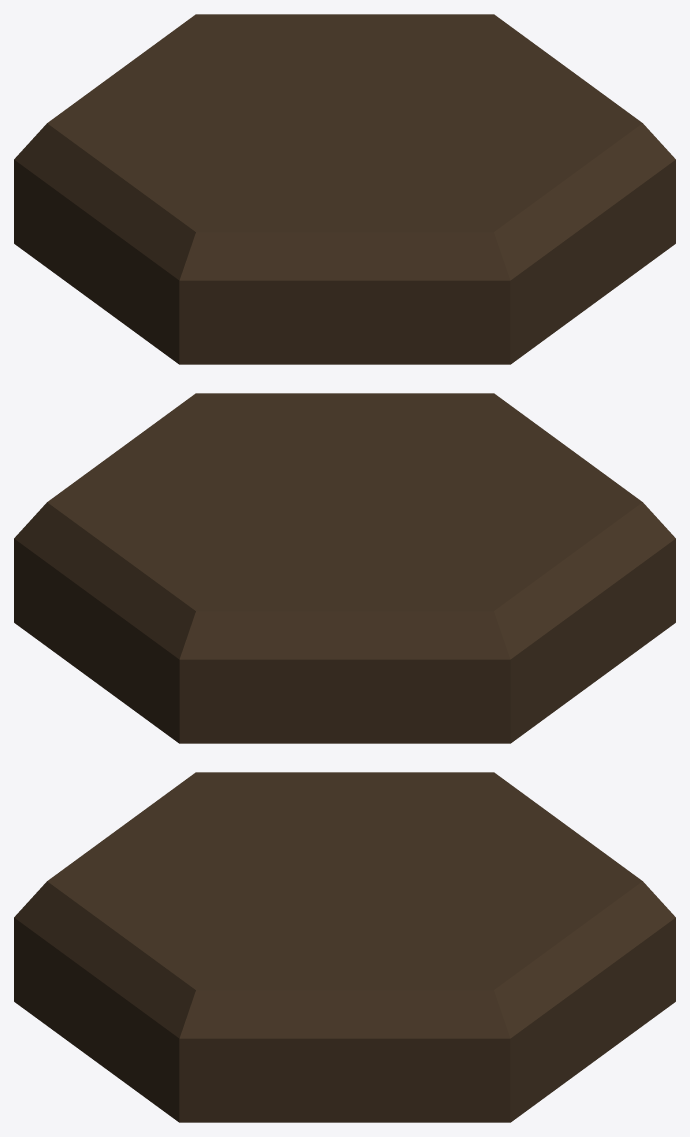
Rendered from Rune Blank.fbx.
The picture shows the model from 3 angles, top to bottom: view 1: azimuth 30°, elevation 25°; view 2: azimuth 150°, elevation 25°; view 3: azimuth 270°, elevation 25°; orthographic projection.
Parts seen in each view (by area): view 1: Rune Blank; view 2: Rune Blank; view 3: Rune Blank.
Boxes of the visible parts, x1=… form: Rune Blank: x1=14, y1=14, x2=675, y2=364; Rune Blank: x1=14, y1=393, x2=675, y2=743; Rune Blank: x1=14, y1=772, x2=675, y2=1122.
Size of the model in its own units: 42.96 by 9.96 by 49.6.
